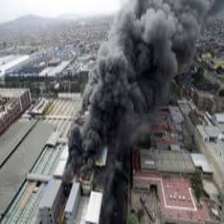smoke: (71, 1, 223, 167)
